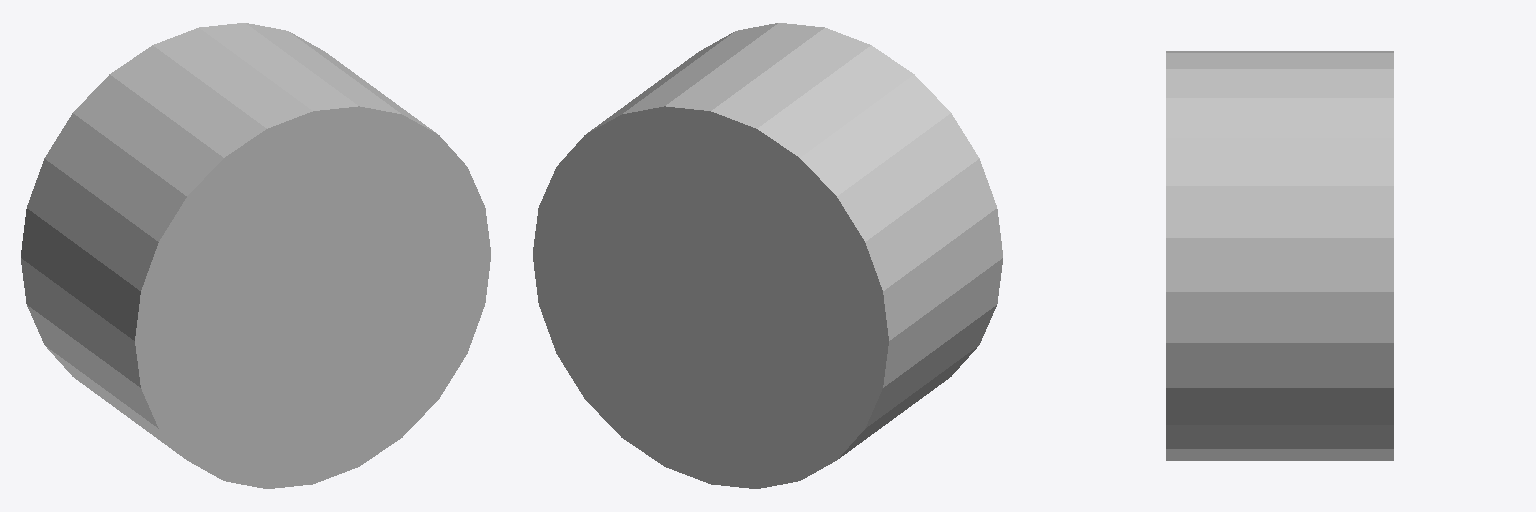
File: cylinder(inside).obj
3 views of the same model, side by side, from view 1: azimuth 30°, elevation 25°; view 2: azimuth 150°, elevation 25°; view 3: azimuth 270°, elevation 25° (orthographic).
Visible parts, largest first — view 1: Cylinder4; view 2: Cylinder4; view 3: Cylinder4.
Part boxes in pixels (x1,y1,x2,y2): Cylinder4: (21, 23, 490, 488); Cylinder4: (533, 23, 1002, 488); Cylinder4: (1166, 51, 1393, 460).
Bounding box in the file's own units: 1.8 × 1.8 × 1.